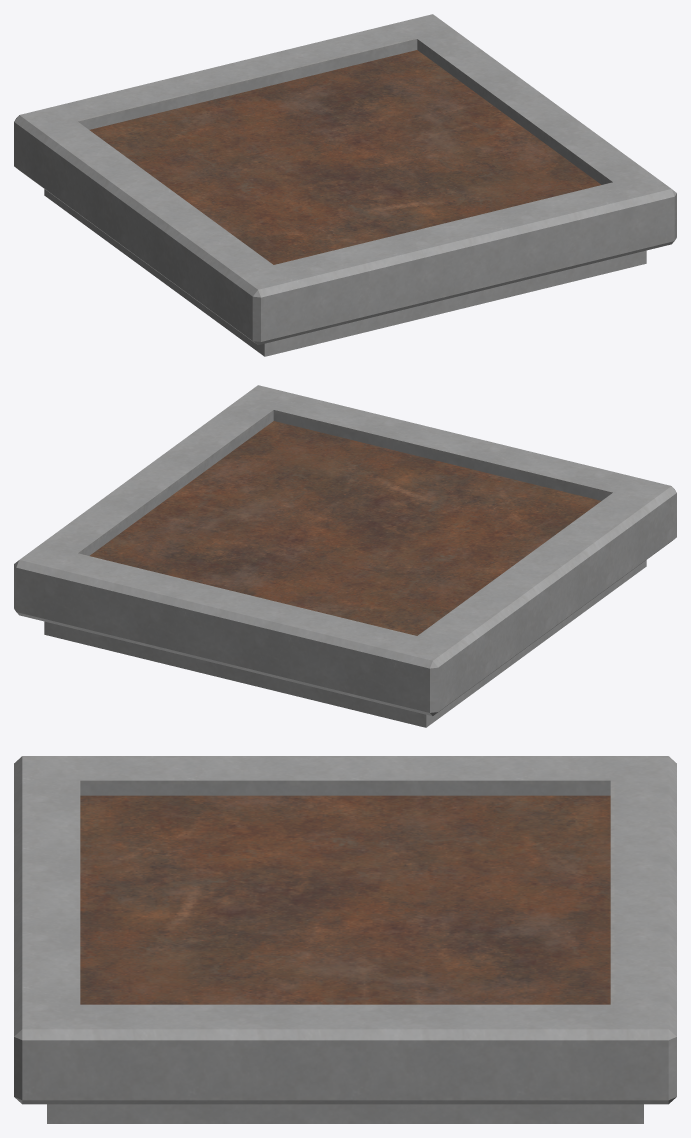
File: Planter_C.fbx
The picture shows the model from 3 angles, top to bottom: view 1: azimuth 30°, elevation 25°; view 2: azimuth 150°, elevation 25°; view 3: azimuth 270°, elevation 25°; orthographic projection. The views are drawn at different scales.
Visible parts, largest first — view 1: Planter_C; view 2: Planter_C; view 3: Planter_C.
Boxes of the visible parts, x1,y1,x2,y2 form: Planter_C: [14, 14, 676, 356]; Planter_C: [14, 385, 676, 727]; Planter_C: [14, 756, 676, 1123].
Bounding box in the file's own units: 400 × 70 × 400.
